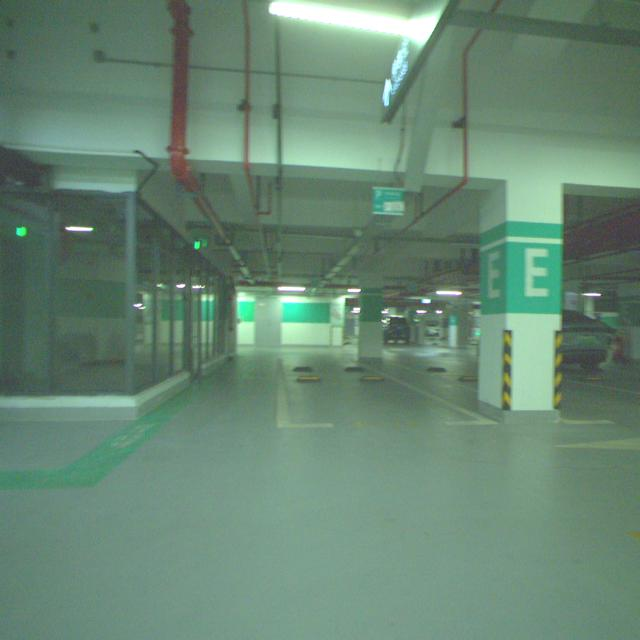pillar: (478, 177, 562, 416)
